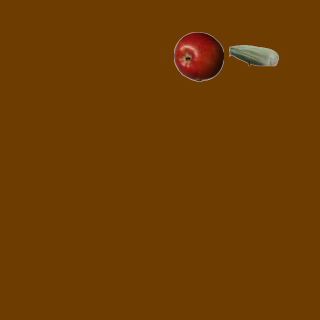Apple Braeburn: (173, 31, 223, 81)
Corn Husk: (228, 30, 278, 80)
